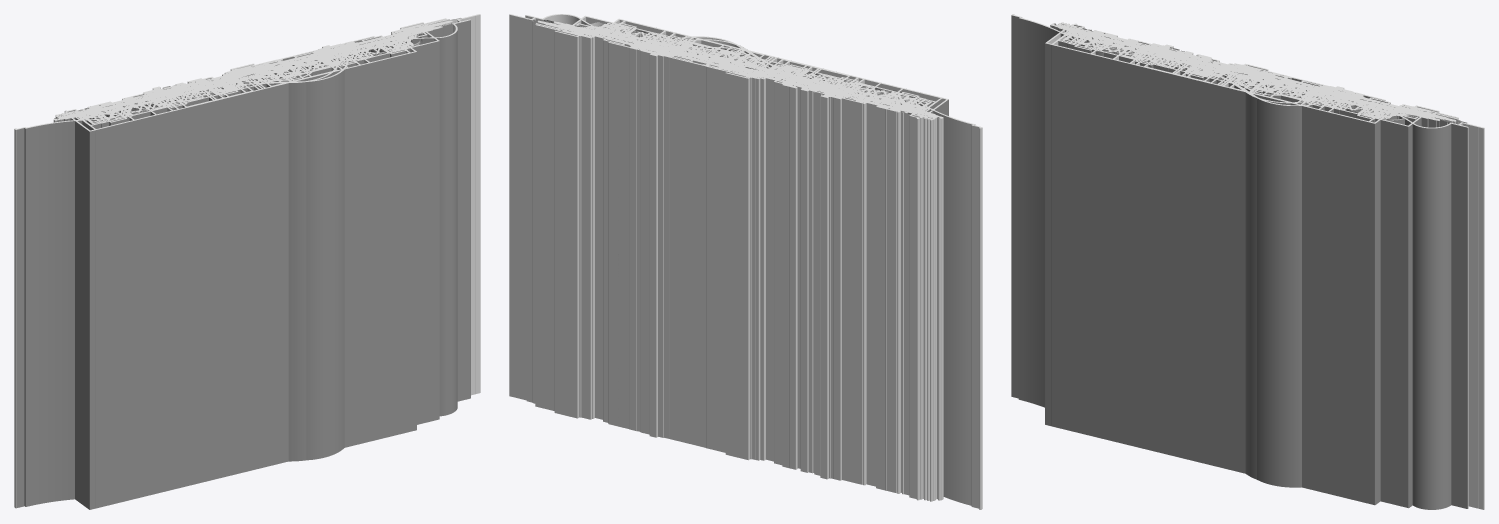
The model's file is MatrixRotador.gltf.
3 renders of one model, left to right at view 1: azimuth 30°, elevation 25°; view 2: azimuth 150°, elevation 25°; view 3: azimuth 330°, elevation 25°, orthographic.
Parts seen in each view (by area): view 1: matriz2_h, matriz15_2, matriz2_k, matriz15_1, matriz1_c, matriz2_j, matriz15_6, matriz1_b, matriz3_t, matriz1_a; view 2: matriz3_t, matriz3_p, matriz15_2, matriz2_l, matriz2_j, matriz2_m, matriz3_s, matriz2_n, matriz2_i, matriz2_k, matriz5_t, matriz3_n (+11 smaller); view 3: matriz2_h, matriz15_2, matriz2_k, matriz15_1, matriz1_c, matriz15_6, matriz2_j, matriz1_b, matriz3_t, matriz1_a.
Part boxes in pixels (box(x1,y1,x2,y2)): matriz2_h: box(61, 25, 420, 508); matriz15_2: box(14, 14, 480, 508); matriz2_k: box(195, 54, 298, 475); matriz15_1: box(124, 41, 367, 460); matriz1_c: box(82, 21, 441, 424); matriz2_j: box(55, 26, 414, 509); matriz15_6: box(115, 42, 357, 461); matriz1_b: box(82, 23, 440, 117); matriz3_t: box(64, 22, 423, 122); matriz1_a: box(75, 26, 434, 116); matriz3_t: box(554, 23, 928, 500); matriz3_p: box(535, 24, 909, 493); matriz15_2: box(509, 14, 982, 509); matriz2_l: box(608, 30, 903, 490); matriz2_j: box(568, 20, 948, 501); matriz2_m: box(667, 44, 822, 468); matriz3_s: box(557, 23, 931, 499); matriz2_n: box(618, 32, 881, 485); matriz2_i: box(640, 38, 850, 437); matriz2_k: box(684, 48, 807, 446); matriz5_t: box(549, 22, 912, 495); matriz3_n: box(571, 26, 935, 500); matriz2_h: box(1051, 23, 1431, 505); matriz15_2: box(1011, 14, 1484, 509); matriz2_k: box(1185, 56, 1309, 473); matriz15_1: box(1123, 41, 1370, 487); matriz1_c: box(1067, 29, 1450, 508); matriz15_6: box(1116, 38, 1364, 479); matriz2_j: box(1045, 22, 1425, 425); matriz1_b: box(1074, 30, 1445, 122); matriz3_t: box(1065, 23, 1439, 119); matriz1_a: box(1070, 29, 1435, 117).
Bounding box in the file's own units: 0.4133 × 0.32 × 0.0521.
2 materials, 1 textured.
